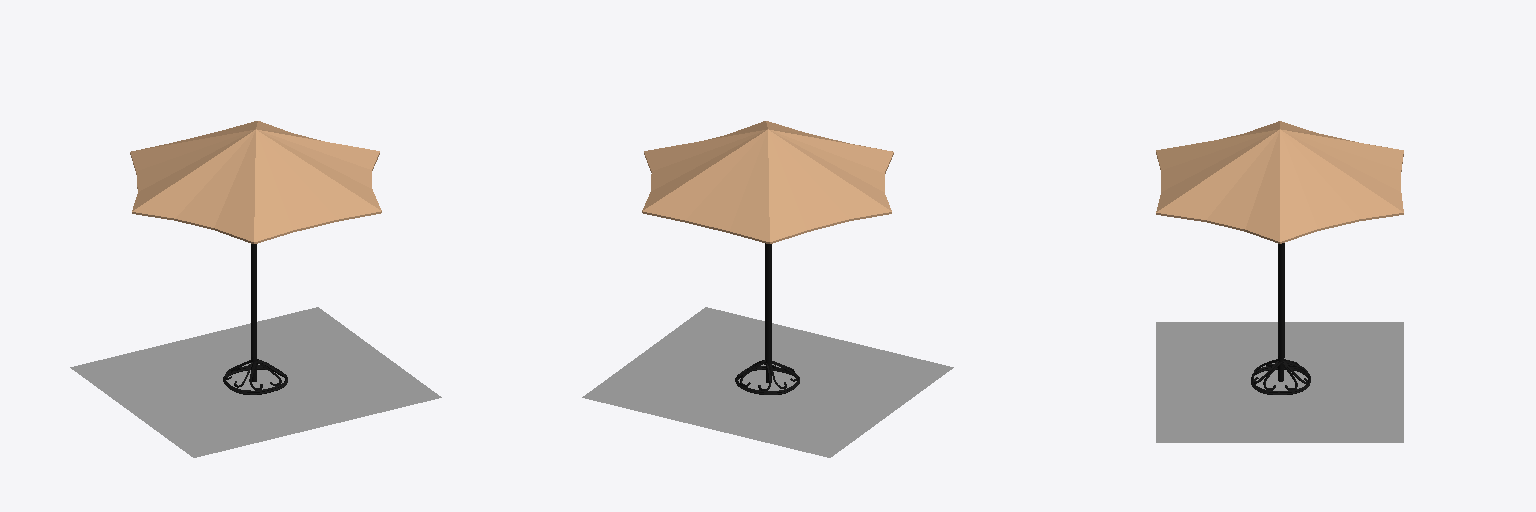
The model's file is Sombrilla.obj.
3 renders of one model, left to right at view 1: azimuth 30°, elevation 25°; view 2: azimuth 150°, elevation 25°; view 3: azimuth 270°, elevation 25°, orthographic.
Visible parts, largest first — view 1: ground_1, Umbrella_9, PolyMesh_9_10; view 2: ground_1, Umbrella_9, PolyMesh_9_10; view 3: ground_1, Umbrella_9, PolyMesh_9_10.
Part boxes in pixels (bbox=[...]): ground_1: bbox=[70, 307, 441, 457]; Umbrella_9: bbox=[130, 121, 381, 243]; PolyMesh_9_10: bbox=[251, 244, 256, 358]; ground_1: bbox=[582, 307, 953, 457]; Umbrella_9: bbox=[642, 121, 893, 243]; PolyMesh_9_10: bbox=[765, 243, 771, 359]; ground_1: bbox=[1156, 322, 1403, 442]; Umbrella_9: bbox=[1156, 121, 1403, 243]; PolyMesh_9_10: bbox=[1278, 243, 1284, 358].
Size of the model in its own units: 257 by 250 by 222.